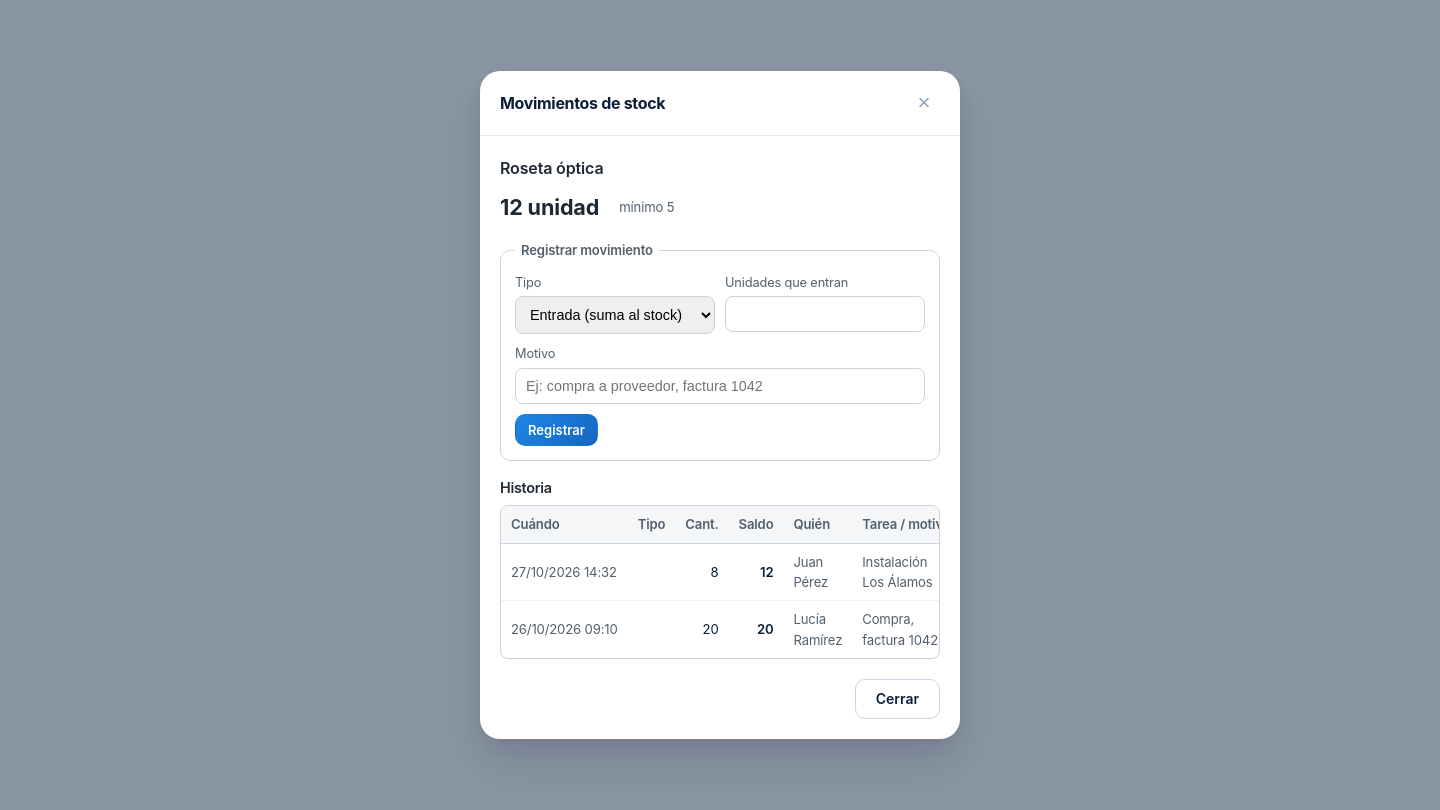
Test: ModalMovimientosMaterial › una cantidad que no es positiva no se envía
The width and height of the screenshot is (1440, 810).
Expected: the text "Instalación Los Álamos" is shown, [852,543,940,601]
Type "0" into the number field labelled "Unidades que entran".
click(825, 314); type("0")  # box [725,296,925,332]
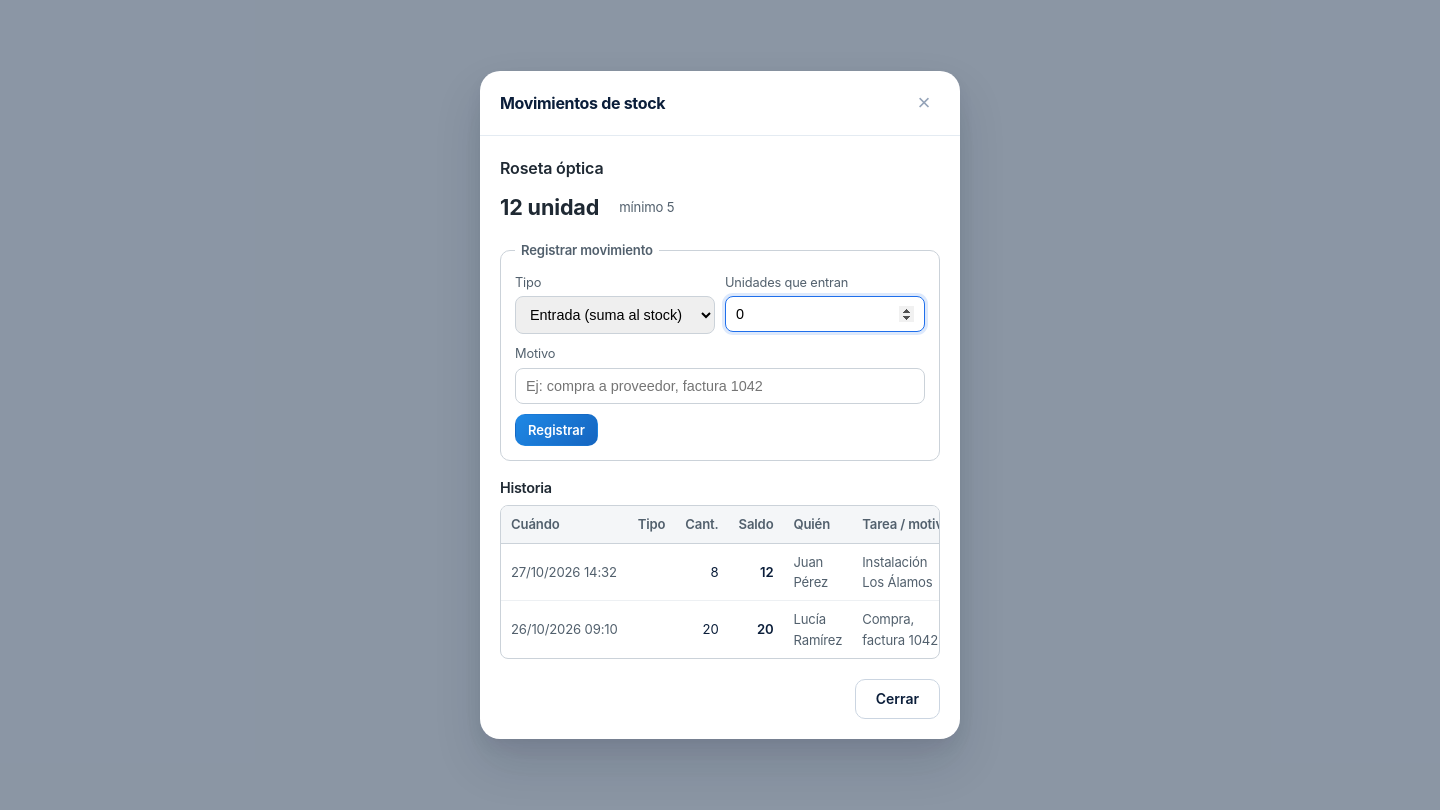
Click the button "Registrar".
click(556, 430)  # box [515,414,598,446]
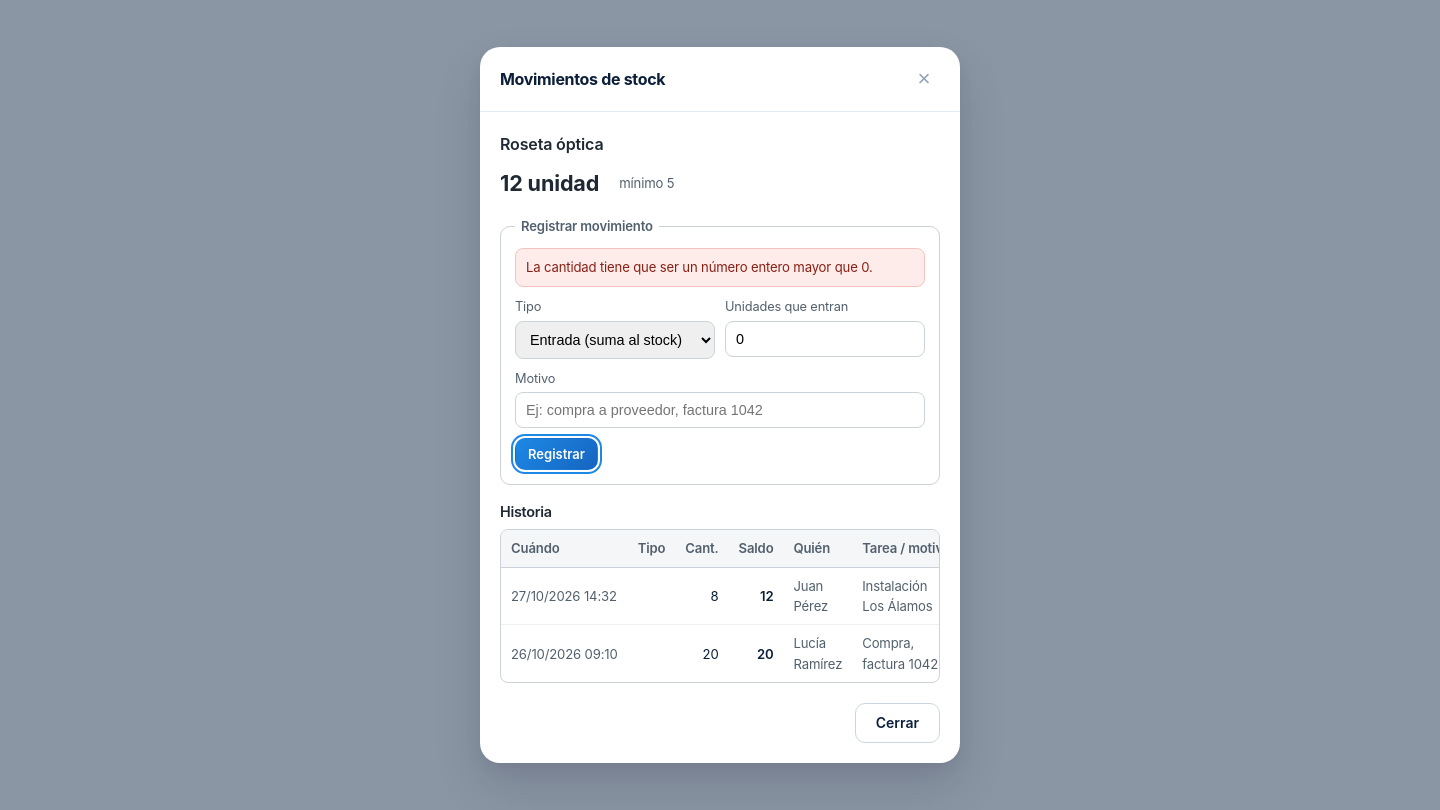
Result: the message "La cantidad tiene que ser un número entero mayor que 0." is shown at [515,248,925,287]
